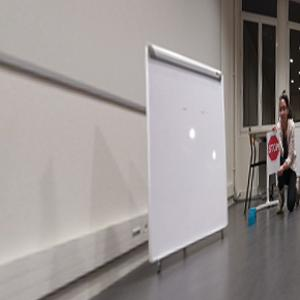stop: (268, 135, 280, 161)
